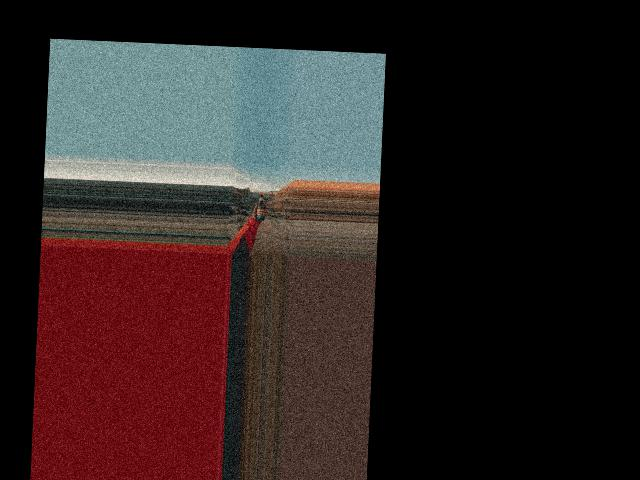beer: (255, 194, 266, 220)
